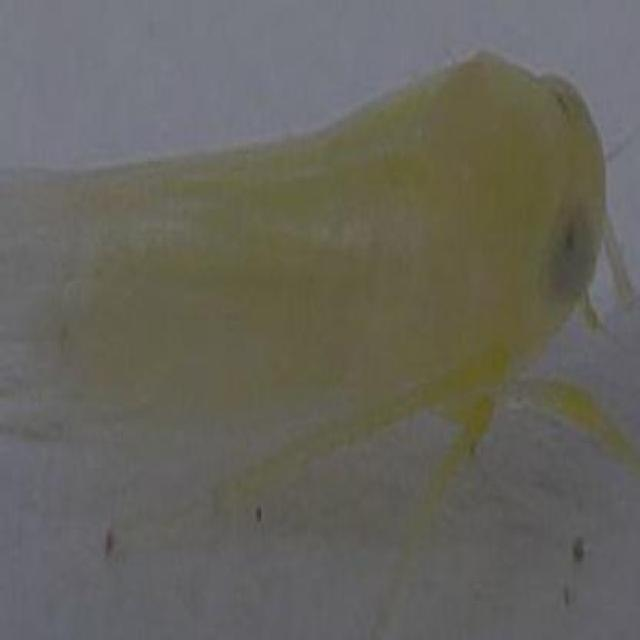green-leafhopper: (4, 82, 593, 423)
